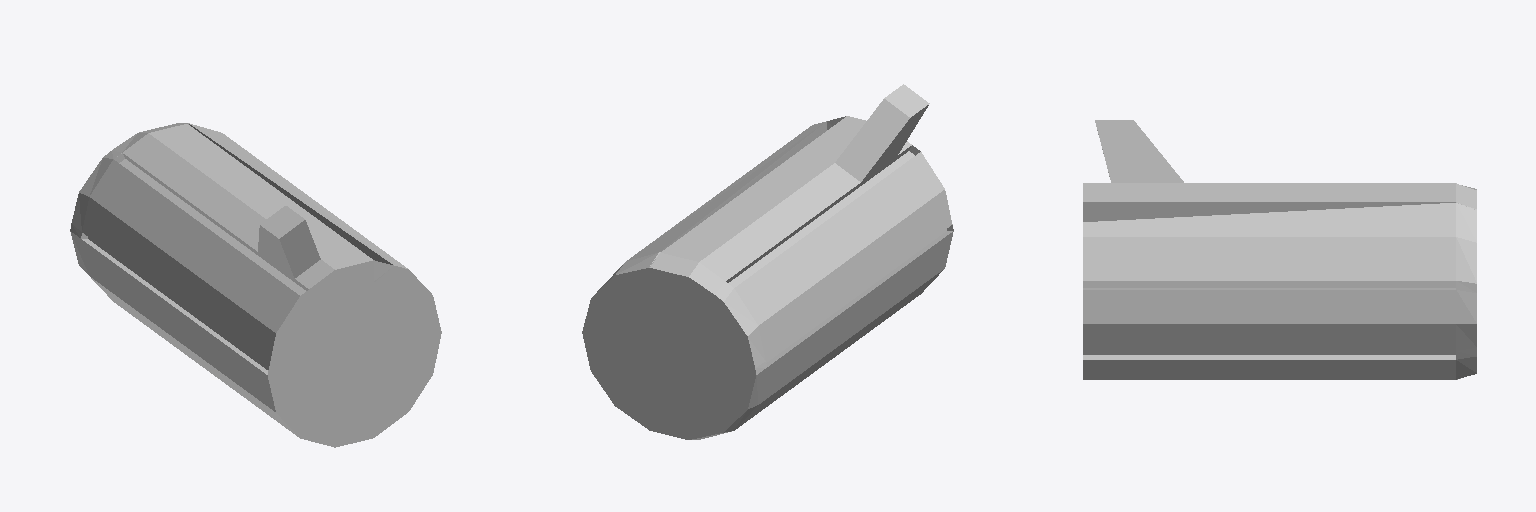
File: stump2.obj
3 views of the same model, side by side, from view 1: azimuth 30°, elevation 25°; view 2: azimuth 150°, elevation 25°; view 3: azimuth 270°, elevation 25° (orthographic).
Visible parts, largest first — view 1: pCylinder4; view 2: pCylinder4; view 3: pCylinder4.
Part boxes in pixels (bbox=[...]): pCylinder4: bbox=[70, 123, 441, 447]; pCylinder4: bbox=[582, 84, 953, 439]; pCylinder4: bbox=[1083, 120, 1476, 379].
Size of the model in its own units: 1.69 by 2.13 by 3.32.